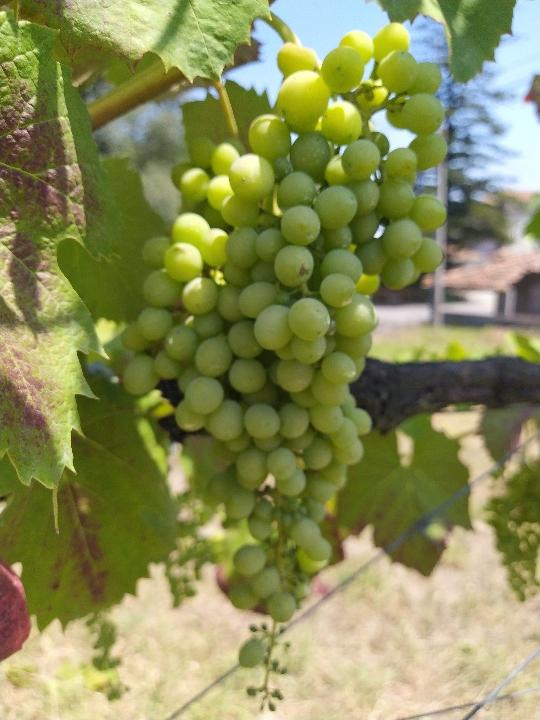grape: (119, 20, 451, 716)
